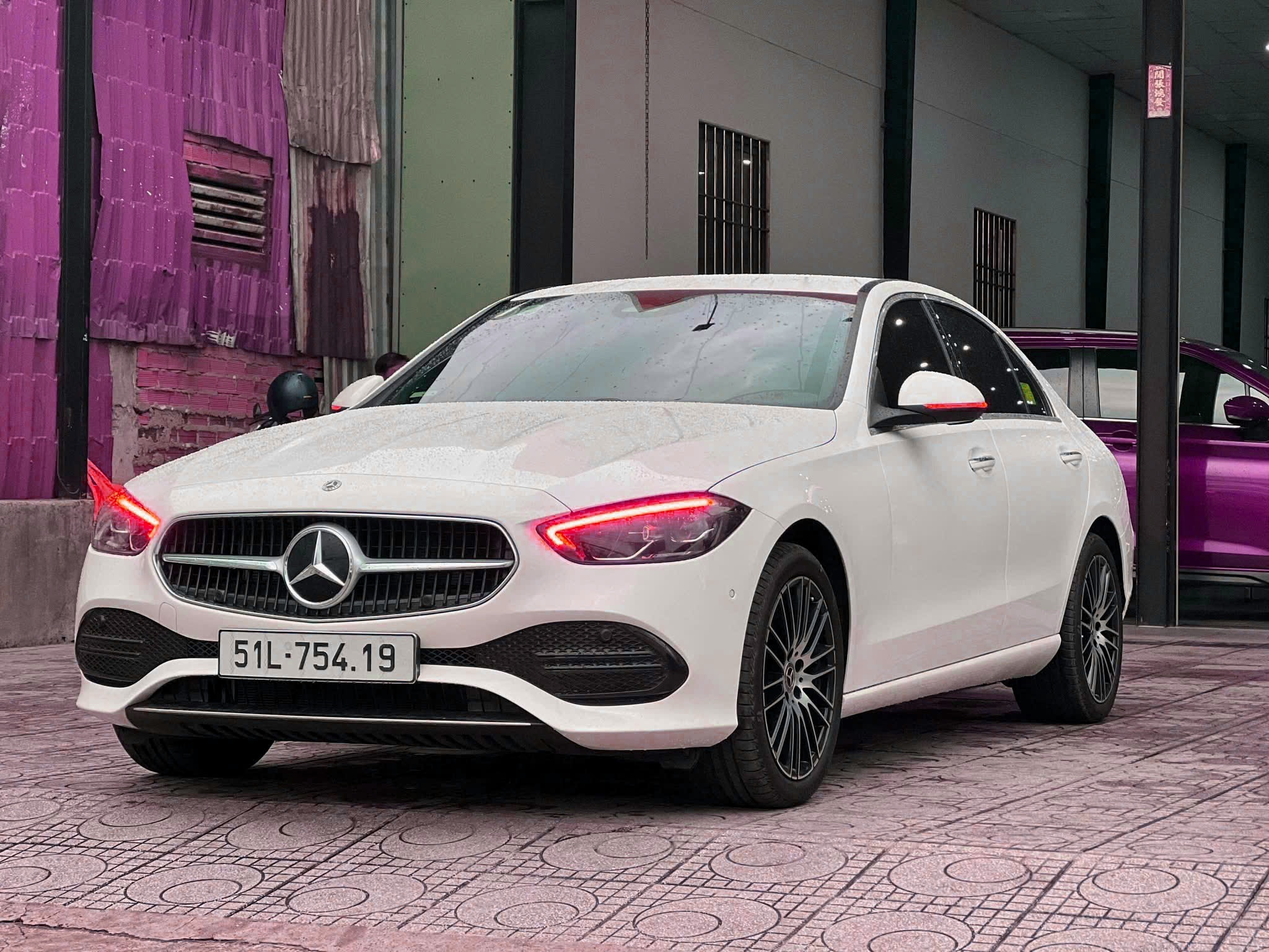Bien-so: (181, 588, 391, 651)
